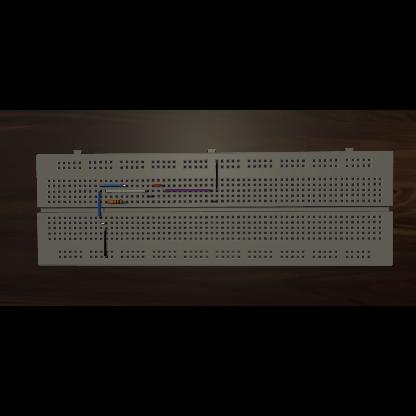breadboard: (37, 148, 394, 266)
resistor: (108, 200, 122, 204)
wire: (104, 228, 108, 258), (98, 192, 102, 219), (164, 190, 212, 192), (105, 190, 149, 192), (216, 162, 218, 192), (100, 185, 128, 187), (152, 185, 164, 187), (211, 200, 217, 202), (100, 223, 108, 224), (147, 196, 154, 196)
